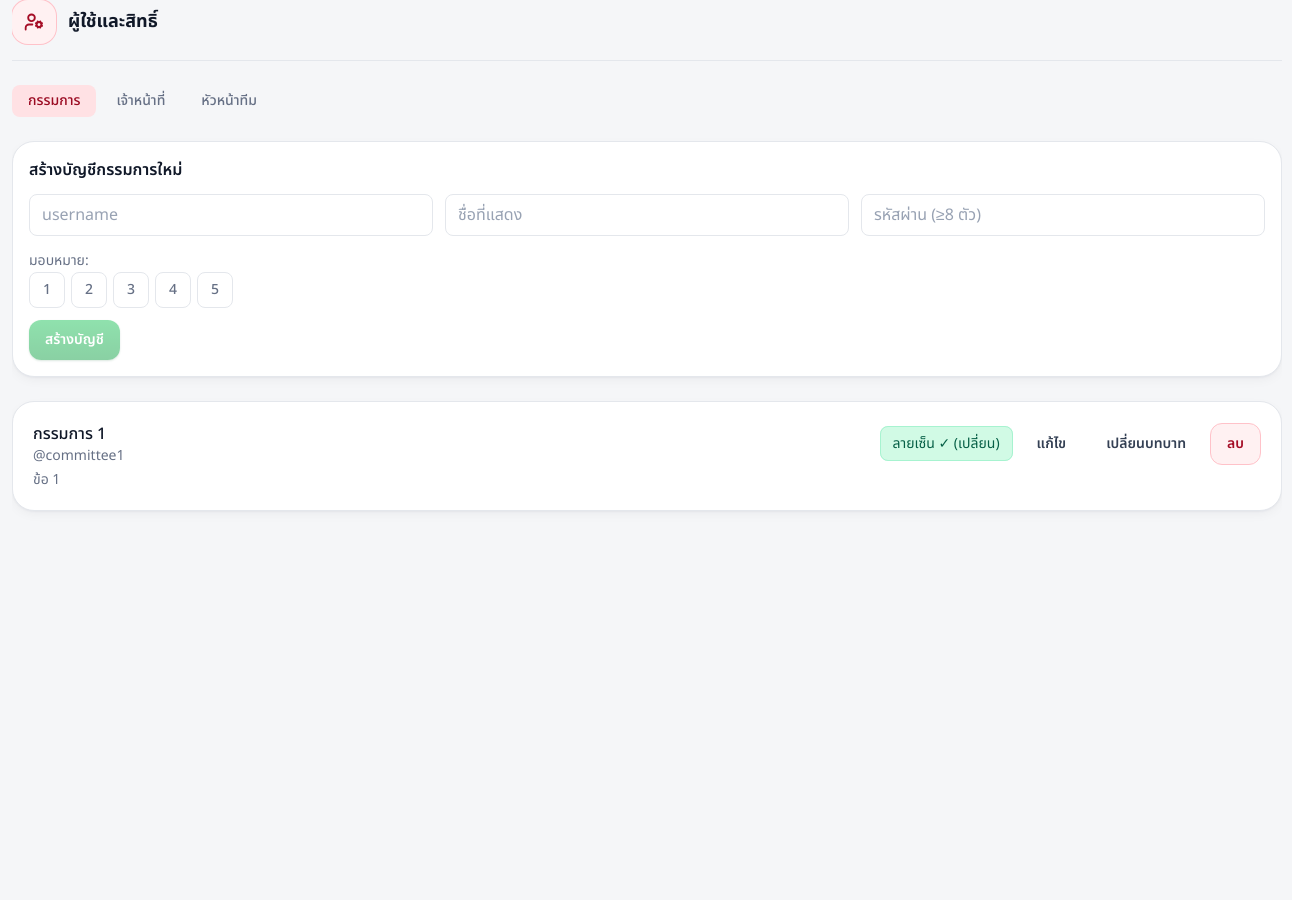
Test: Role change panel › offers only the two OTHER roles (never ADMIN) and keeps confirm disabled until scope is chosen
Click the button "เปลี่ยนบทบาท".
click(1146, 444)  # box [1090, 424, 1202, 464]
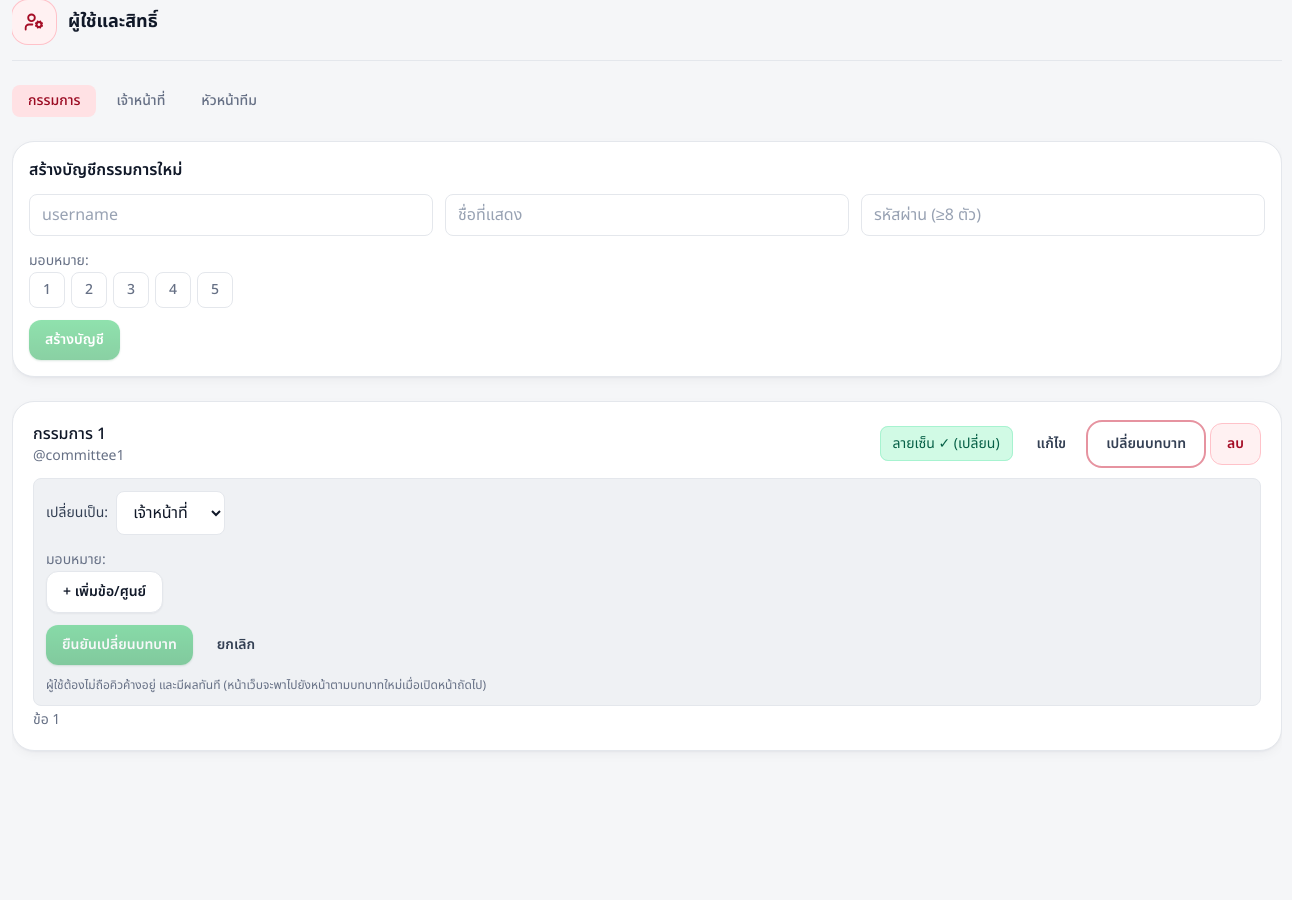
Check: the button "ยืนยันเปลี่ยนบทบาท" is disabled, box [46, 625, 193, 665]
